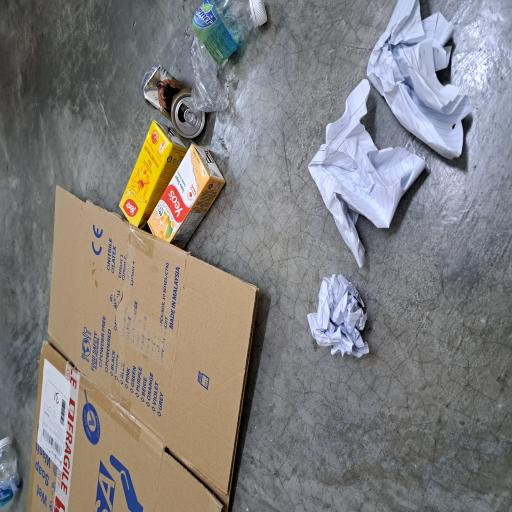can: (282, 186, 333, 272)
cardboard: (0, 33, 245, 343)
drink carton: (198, 192, 276, 302), (213, 157, 296, 248)
paper: (180, 408, 326, 512), (116, 405, 178, 495)
plastic bottle: (298, 252, 384, 358), (0, 0, 60, 30)
plastic bottle cap: (362, 330, 384, 357), (287, 246, 305, 276), (45, 0, 58, 27)
